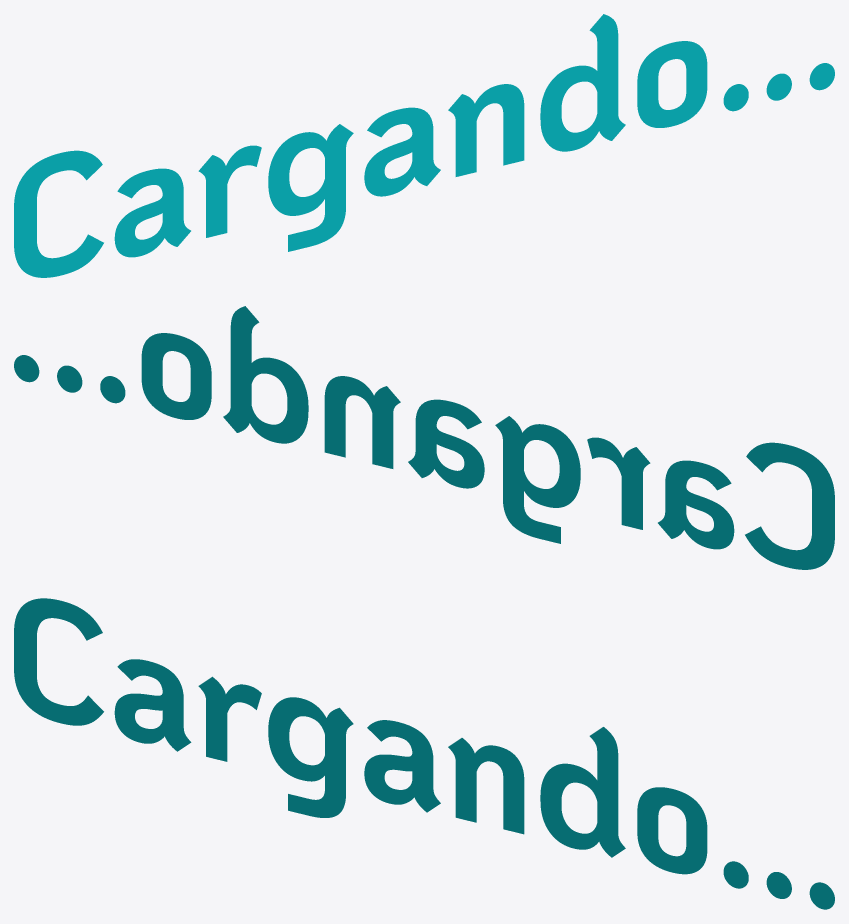
File: cargando.gltf
3 renders of one model, top to bottom at view 1: azimuth 30°, elevation 25°; view 2: azimuth 150°, elevation 25°; view 3: azimuth 330°, elevation 25°, orthographic.
Visible parts, largest first — view 1: Text; view 2: Text; view 3: Text.
Boxes of the visible parts, x1,y1,x2,y2 form: Text: [14, 14, 834, 277]; Text: [14, 306, 834, 569]; Text: [14, 598, 834, 909].
Bounding box in the file's own units: 3.04 × 0.5702 × 1.27e-16.
